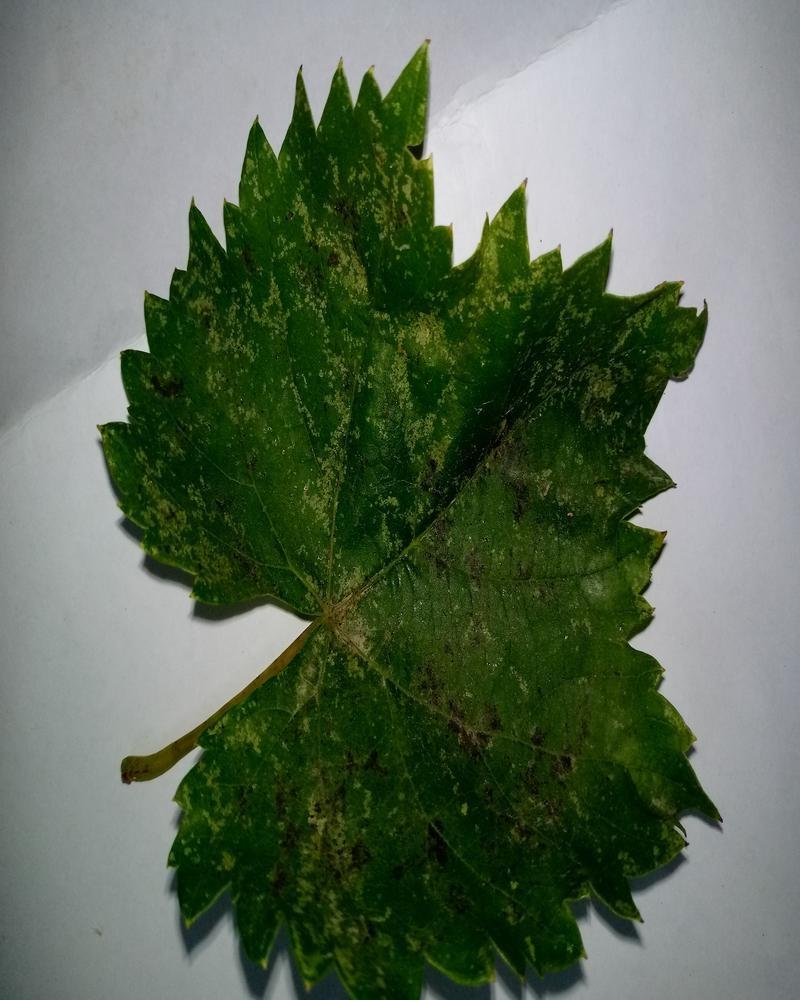Powdery-Mildew: (282, 69, 434, 299), (288, 746, 378, 977), (296, 517, 399, 682), (127, 434, 239, 585), (173, 261, 313, 380), (285, 384, 447, 476), (463, 215, 569, 313), (404, 663, 513, 758), (391, 309, 454, 372), (568, 343, 631, 406), (506, 445, 569, 508), (572, 557, 635, 620), (559, 719, 622, 782)
